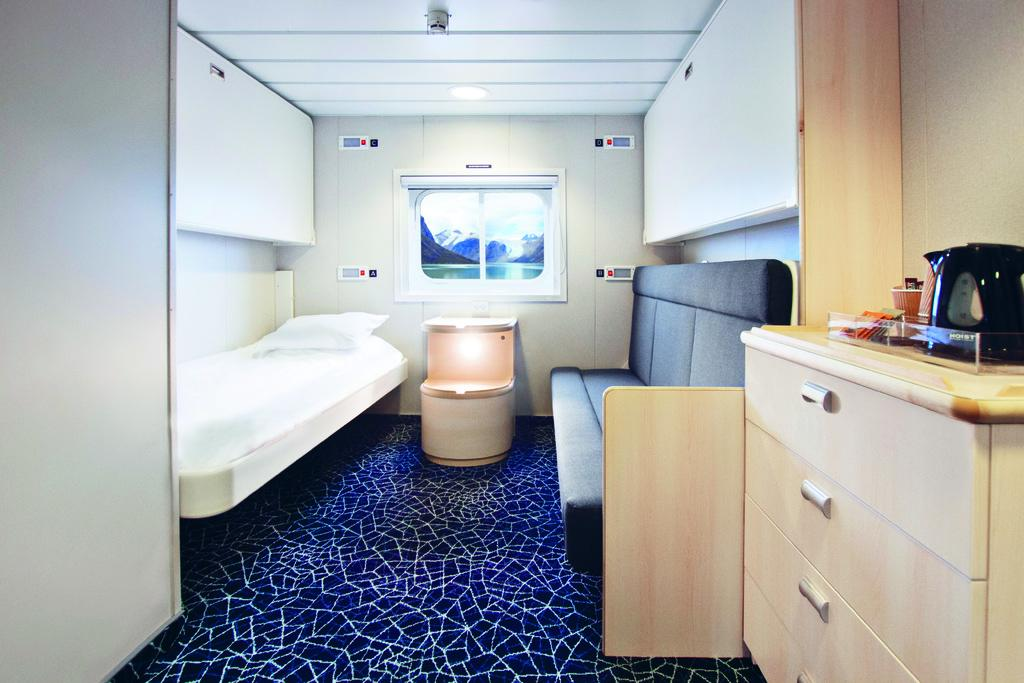cabinet_door: (764, 496, 974, 612), (760, 380, 987, 479), (758, 576, 918, 676)
handle: (791, 477, 840, 523), (795, 580, 827, 624), (794, 386, 836, 414)
